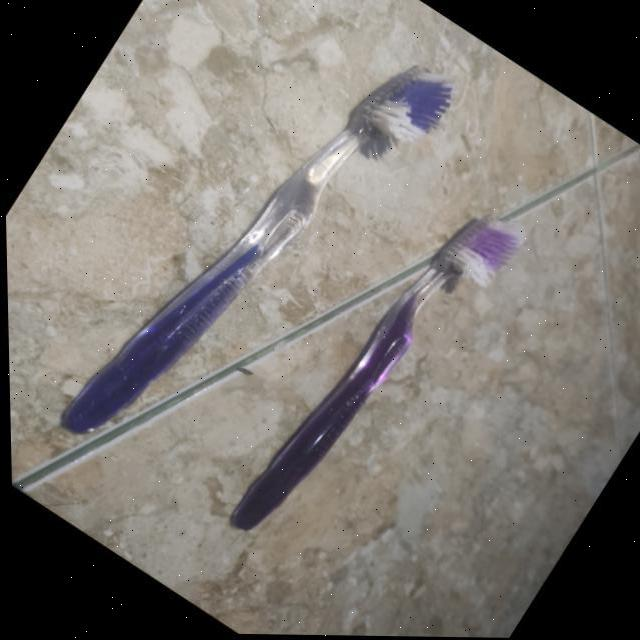toothbrush: (49, 64, 457, 434), (212, 212, 520, 538)
